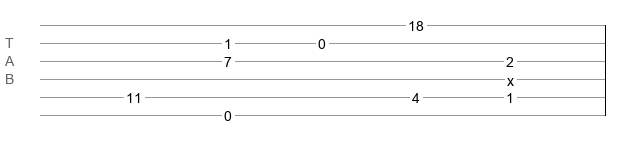0: (224, 108, 232, 118), (318, 36, 326, 46)
1: (224, 36, 232, 46), (506, 90, 514, 100)
11: (126, 90, 142, 100)
18: (408, 18, 424, 28)
2: (506, 54, 514, 64)
4: (412, 90, 420, 100)
7: (224, 54, 232, 64)
x: (507, 73, 514, 81)
